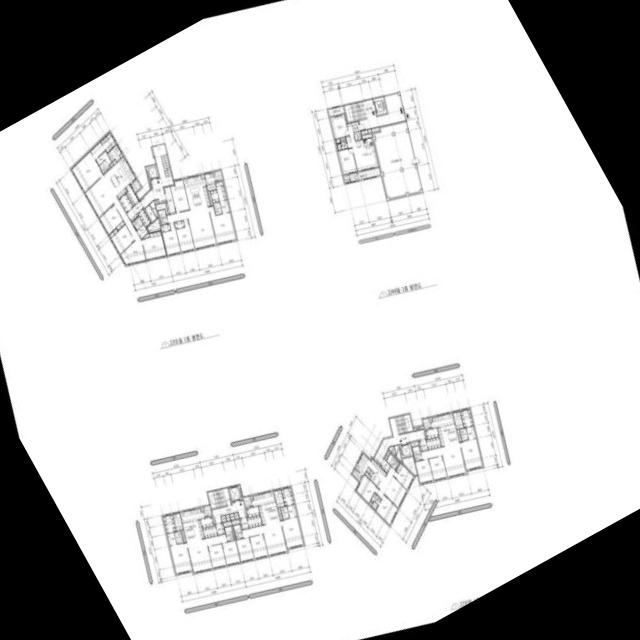background: (0, 0, 640, 640)
space_balconi: (349, 168, 380, 181), (328, 106, 344, 116), (130, 179, 141, 192), (352, 468, 362, 482), (422, 418, 431, 430), (213, 170, 222, 181)
space_bedroom: (71, 151, 102, 192), (208, 206, 236, 244), (108, 224, 134, 254), (141, 230, 166, 260), (169, 542, 192, 574), (460, 438, 483, 470), (99, 205, 124, 234), (375, 494, 397, 525), (281, 517, 303, 548), (355, 475, 379, 503), (170, 179, 189, 212), (162, 222, 180, 255), (176, 219, 194, 252), (393, 462, 414, 490), (249, 534, 268, 559), (338, 148, 356, 174), (428, 456, 447, 480), (330, 114, 349, 138), (415, 459, 433, 484), (236, 537, 254, 562), (208, 544, 226, 568), (221, 541, 239, 565), (174, 220, 184, 228), (160, 224, 170, 232)
space_dressroom: (100, 132, 116, 153), (281, 486, 294, 506), (460, 408, 473, 427), (162, 514, 175, 533), (215, 181, 226, 201), (210, 190, 219, 202)
space_elevator: (228, 485, 242, 502), (373, 97, 386, 115), (399, 443, 412, 458), (145, 165, 158, 180)
space_elevator_hall: (140, 144, 173, 208), (374, 429, 425, 464), (359, 93, 405, 130), (211, 501, 246, 523)
space_front: (126, 201, 143, 221), (163, 186, 175, 214), (138, 208, 151, 227), (119, 194, 132, 212), (246, 515, 262, 528), (202, 526, 217, 538), (380, 459, 391, 473), (418, 439, 428, 452), (347, 122, 360, 132), (215, 523, 224, 535), (239, 518, 248, 529)
space_kitchen: (104, 156, 136, 199), (355, 452, 386, 488), (251, 491, 280, 525), (182, 175, 210, 210), (431, 412, 459, 446), (180, 507, 205, 543), (355, 138, 375, 156), (200, 517, 213, 528), (246, 507, 259, 517)
space_living_room: (84, 175, 145, 265), (166, 206, 216, 249), (241, 521, 287, 555), (187, 534, 227, 573), (421, 443, 466, 477), (345, 126, 378, 171), (377, 466, 407, 508)
space_other: (372, 121, 421, 199), (126, 184, 138, 206), (402, 457, 416, 475), (107, 144, 121, 161), (204, 172, 216, 191), (172, 512, 183, 531), (452, 411, 463, 429), (273, 489, 284, 507), (145, 205, 156, 222), (426, 437, 441, 449), (147, 218, 160, 231), (156, 202, 168, 214), (149, 200, 157, 218), (425, 428, 438, 439), (394, 445, 402, 462), (336, 138, 347, 150), (354, 131, 362, 140), (388, 446, 395, 455), (384, 450, 390, 460), (208, 191, 212, 205), (343, 175, 350, 183), (109, 159, 116, 167), (413, 426, 423, 431), (362, 134, 372, 139), (231, 519, 239, 525), (181, 530, 185, 542), (223, 521, 231, 527), (457, 429, 461, 441), (278, 508, 282, 520), (410, 441, 418, 446), (371, 127, 379, 132), (234, 512, 239, 519), (221, 515, 226, 522), (229, 513, 234, 520), (142, 233, 149, 238), (225, 514, 230, 521), (365, 472, 370, 478), (149, 181, 152, 189), (361, 130, 367, 134), (200, 174, 204, 179), (119, 153, 123, 158), (154, 199, 158, 203), (367, 129, 371, 133), (250, 495, 253, 500), (368, 501, 371, 506), (429, 417, 432, 421)
space_outdoor_room: (243, 496, 252, 507), (203, 505, 211, 517)
space_staircase: (389, 414, 412, 436), (207, 488, 231, 508), (344, 101, 366, 122), (160, 154, 171, 177)
space_toilet: (95, 151, 111, 173), (459, 426, 476, 441), (90, 141, 104, 159), (386, 453, 398, 470), (370, 493, 381, 509), (412, 446, 422, 461), (224, 526, 234, 541), (158, 209, 167, 225), (137, 224, 147, 238), (287, 504, 297, 518), (233, 524, 242, 539), (219, 200, 229, 213), (167, 532, 176, 545), (135, 216, 143, 227), (132, 219, 139, 230), (281, 512, 289, 519), (280, 506, 288, 513), (175, 536, 183, 543), (174, 531, 182, 538), (213, 202, 220, 209), (214, 208, 222, 214)
